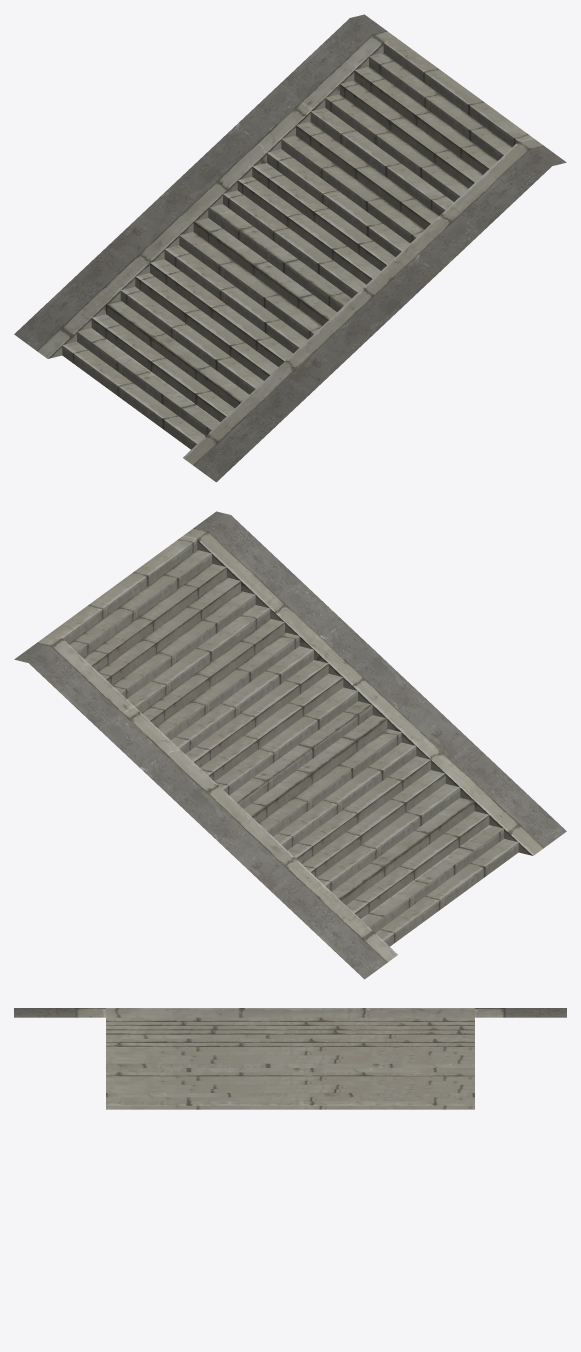
3 views of the same model, one above another, from view 1: azimuth 30°, elevation 25°; view 2: azimuth 150°, elevation 25°; view 3: azimuth 270°, elevation 25° (orthographic). The views are drawn at different scales.
Parts seen in each view (by area): view 1: body0_model0_lod0_mesh1, body0_model0_lod0_mesh0; view 2: body0_model0_lod0_mesh1, body0_model0_lod0_mesh0; view 3: body0_model0_lod0_mesh1, body0_model0_lod0_mesh0.
Boxes of the visible parts, bbox=[...] form: body0_model0_lod0_mesh1: bbox=[37, 31, 543, 465]; body0_model0_lod0_mesh0: bbox=[14, 14, 566, 482]; body0_model0_lod0_mesh1: bbox=[37, 528, 543, 962]; body0_model0_lod0_mesh0: bbox=[14, 511, 566, 979]; body0_model0_lod0_mesh1: bbox=[75, 1008, 505, 1109]; body0_model0_lod0_mesh0: bbox=[14, 1008, 566, 1017].
Bounding box in the file's own units: 288 × 184 × 288.
2 materials, 2 textured.
